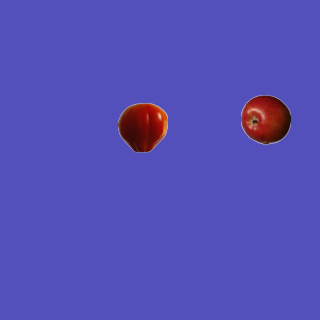Apple Braeburn: (240, 94, 290, 144)
Tomato 1: (117, 102, 167, 152)
